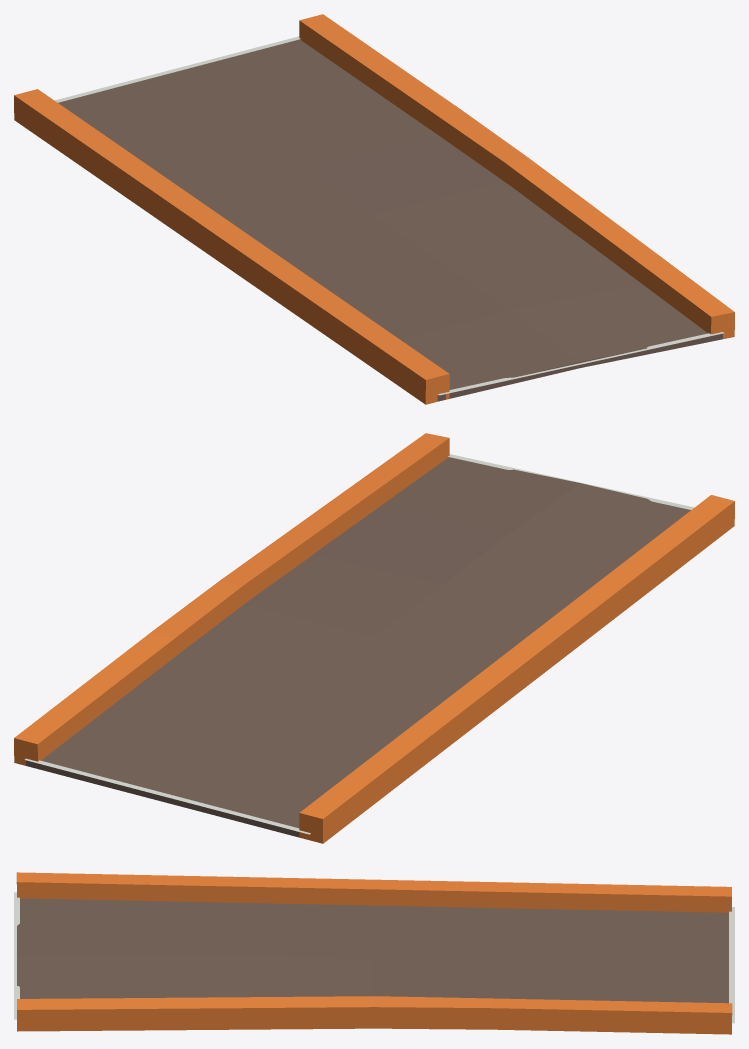
File: SM_MP_Film_A_3_0.fbx
The picture shows the model from 3 angles, top to bottom: view 1: azimuth 30°, elevation 25°; view 2: azimuth 150°, elevation 25°; view 3: azimuth 270°, elevation 25°; orthographic projection. The views are drawn at different scales.
Parts seen in each view (by area): view 1: SM_MP_Film_A_3_0; view 2: SM_MP_Film_A_3_0; view 3: SM_MP_Film_A_3_0.
Boxes of the visible parts, left/top/right/bottom form: SM_MP_Film_A_3_0: left=14, top=14, right=734, bottom=404; SM_MP_Film_A_3_0: left=14, top=433, right=734, bottom=843; SM_MP_Film_A_3_0: left=14, top=872, right=734, bottom=1034.
Size of what is drawn, in the model's own units: 260 by 605 by 33.75.
